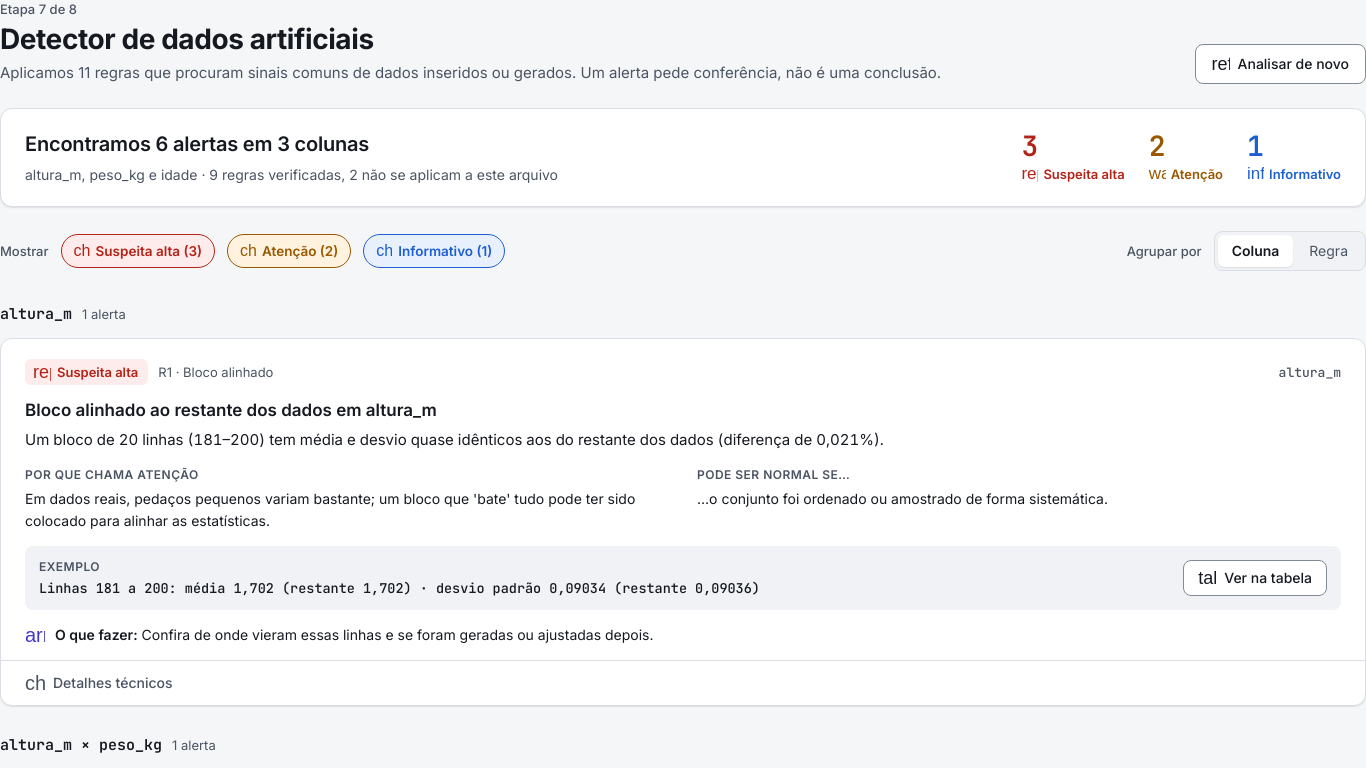
PaginaDetector › desmarcar severidades filtra a lista e grava na URL; sem nenhuma, orienta
The width and height of the screenshot is (1366, 768).
Expected: the element named "Bloco alinhado ao restante dos dados em altura_m" is shown, [0, 338, 1365, 706]
Click the checkbox labelled "Suspeita alta (3)" at (138, 251), box [60, 234, 215, 268]
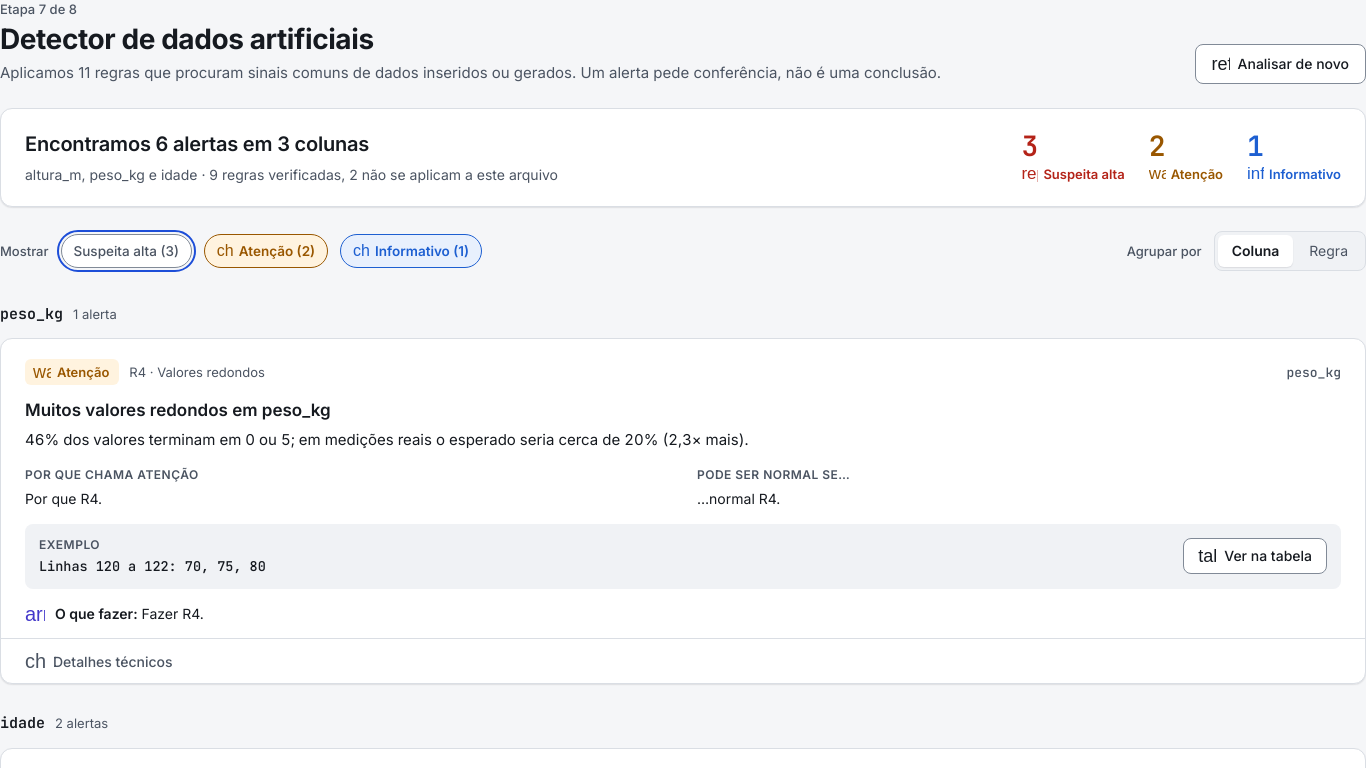
Expected: the element "Muitos valores redondos em peso_kg" is shown, [0, 338, 1365, 684]
Now the heading "Bloco alinhado ao restante dos dados em altura_m" is gone
Click the checkbox labelled "Atenção (2)" at (266, 251), box [204, 234, 328, 268]
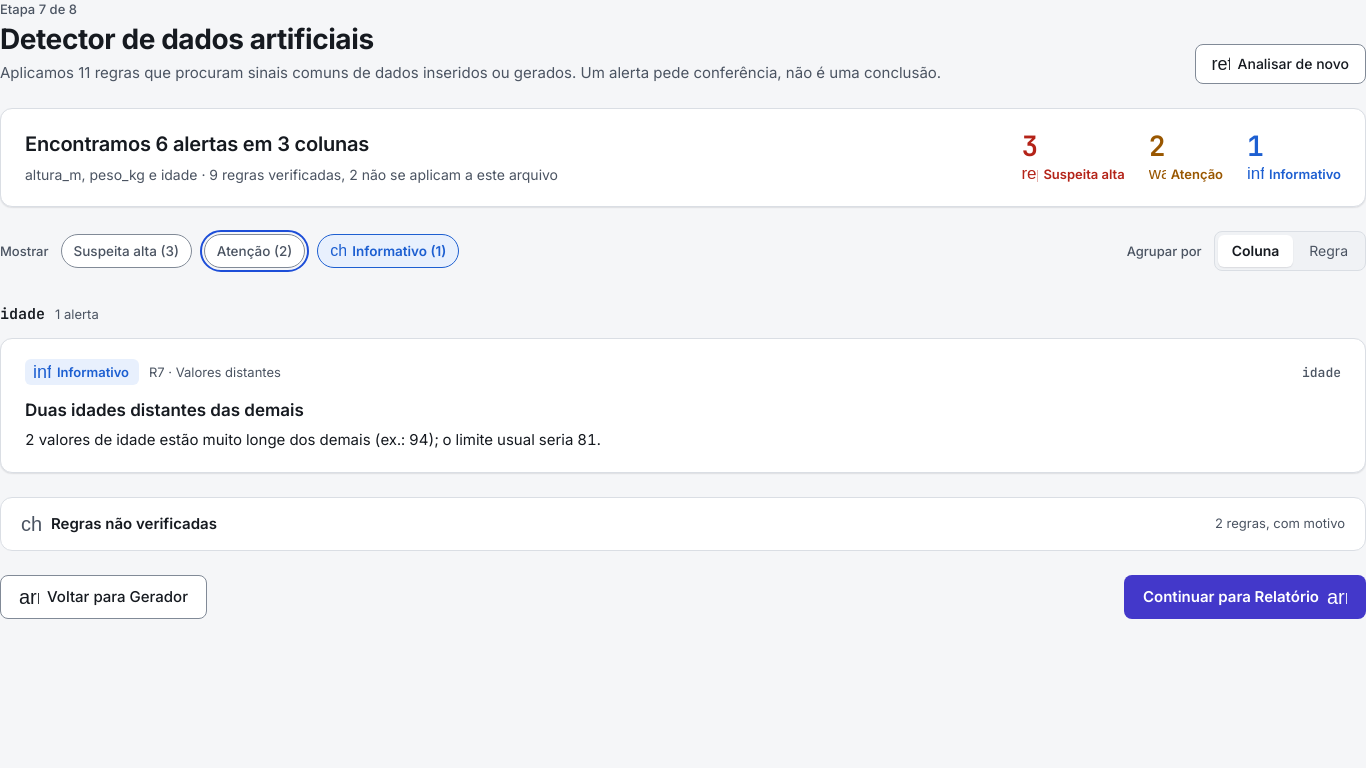
Click the checkbox labelled "Informativo (1)" at (388, 251), box [317, 234, 459, 268]
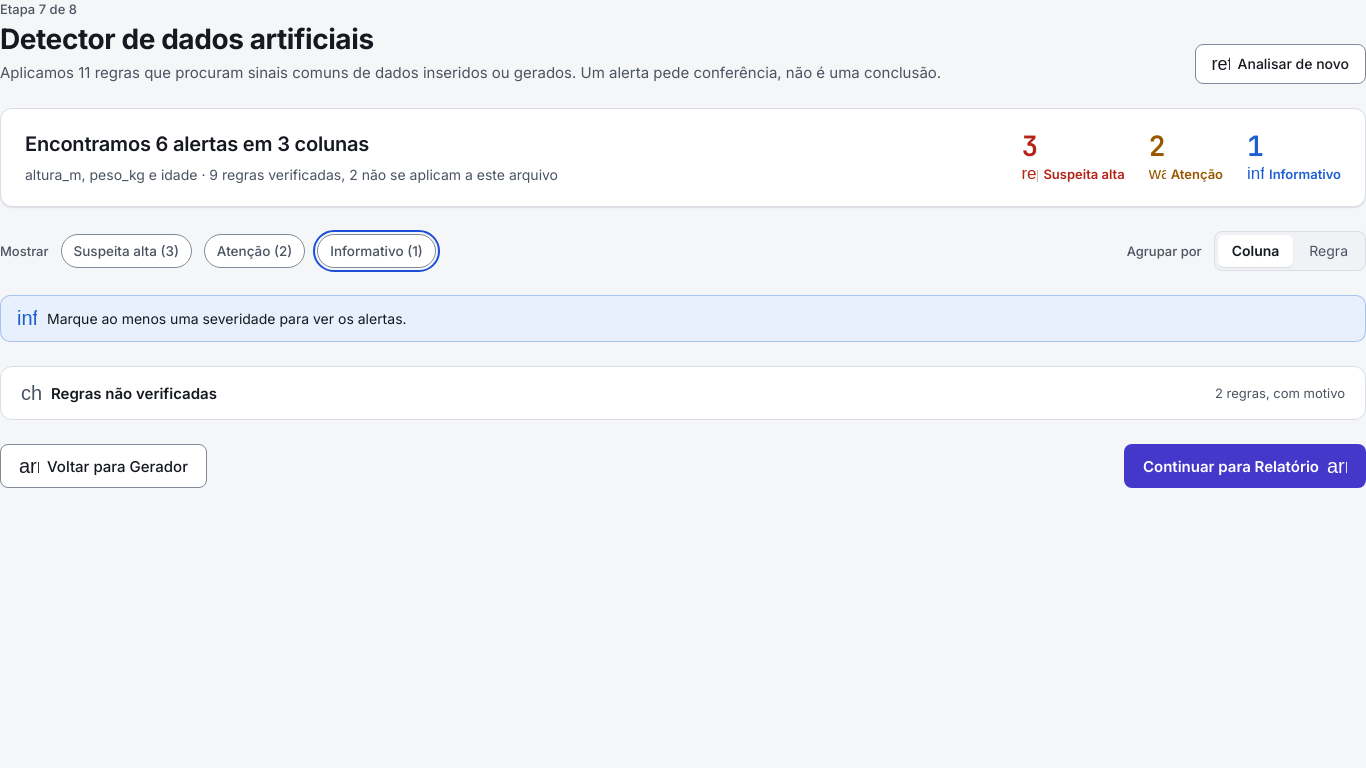
Now the text "Marque ao menos uma severidade para ver os alertas." is shown, box [47, 310, 407, 327]
